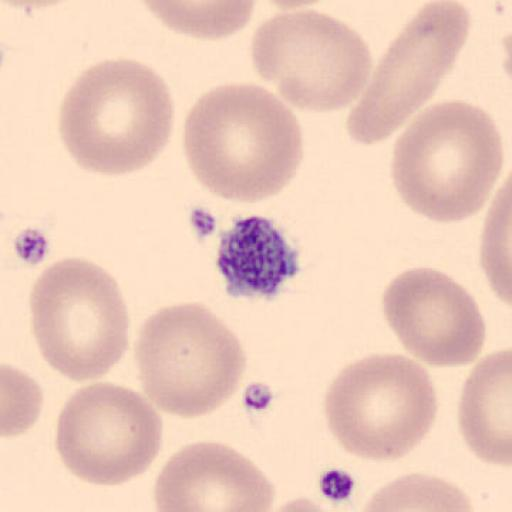Platelet: (214, 212, 305, 303)
RBC: (352, 2, 471, 146), (180, 79, 306, 206), (390, 98, 505, 225), (57, 56, 176, 177), (132, 300, 248, 420), (322, 350, 440, 464), (249, 7, 374, 114), (27, 255, 131, 383), (54, 381, 165, 488), (382, 264, 486, 369), (153, 438, 276, 512), (456, 347, 512, 467), (351, 469, 477, 512), (134, 0, 259, 42), (479, 178, 512, 310), (2, 360, 44, 440), (261, 493, 351, 512), (0, 0, 84, 17), (256, 0, 338, 10)
